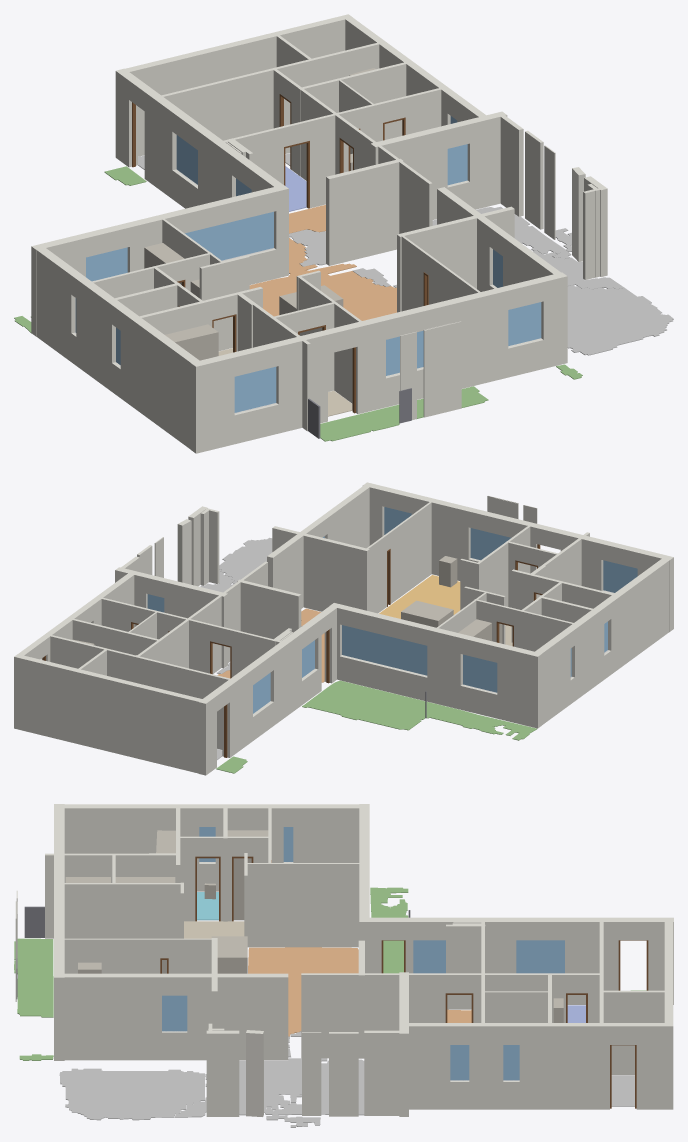
The picture shows the model from 3 angles, top to bottom: view 1: azimuth 30°, elevation 25°; view 2: azimuth 150°, elevation 25°; view 3: azimuth 270°, elevation 25°; orthographic projection. The views are drawn at different scales.
Parts seen in each view (by area): view 1: walls, floor_21_Garage, floor_18_Living_Room, window_9, floor_15_Outdoor, window_3, window_16, furniture_4_closet, floor_20_Garage, floor_24_Undefined, window_0, floor_22_Undefined (+6 smaller); view 2: walls, floor_14_Outdoor, window_9, floor_17_Kitchen, floor_21_Garage, window_0, furniture_19_fireplace, window_2, window_3, furniture_2_closet, furniture_12_appliance, window_6 (+1 smaller); view 3: walls, floor_21_Garage, floor_18_Living_Room, floor_15_Outdoor, floor_24_Undefined, floor_14_Outdoor, window_6, floor_20_Garage, furniture_19_fireplace, window_8, furniture_3_closet, floor_19_Entry (+6 smaller).
Part boxes in pixels (x1=…): walls: x1=31, y1=14, x2=607, y2=453; floor_21_Garage: x1=567, y1=285, x2=673, y2=355; floor_18_Living_Room: x1=249, y1=205, x2=396, y2=320; window_9: x1=185, y1=211, x2=273, y2=260; floor_15_Outdoor: x1=320, y1=386, x2=488, y2=441; window_3: x1=234, y1=366, x2=276, y2=412; window_16: x1=508, y1=302, x2=541, y2=345; furniture_4_closet: x1=165, y1=324, x2=218, y2=360; floor_20_Garage: x1=432, y1=206, x2=571, y2=258; floor_24_Undefined: x1=533, y1=250, x2=624, y2=289; window_0: x1=86, y1=247, x2=127, y2=281; floor_22_Undefined: x1=289, y1=229, x2=326, y2=266; walls: x1=14, y1=482, x2=673, y2=775; floor_14_Outdoor: x1=302, y1=680, x2=536, y2=740; window_9: x1=342, y1=625, x2=427, y2=675; floor_17_Kitchen: x1=379, y1=575, x2=460, y2=618; floor_21_Garage: x1=219, y1=537, x2=272, y2=584; window_0: x1=463, y1=654, x2=497, y2=692; furniture_19_fireplace: x1=401, y1=600, x2=453, y2=627; window_2: x1=470, y1=528, x2=510, y2=560; window_3: x1=603, y1=560, x2=637, y2=592; furniture_2_closet: x1=458, y1=619, x2=502, y2=643; furniture_12_appliance: x1=439, y1=556, x2=457, y2=587; window_6: x1=253, y1=672, x2=270, y2=713; walls: x1=15, y1=804, x2=673, y2=1116; floor_21_Garage: x1=59, y1=1068, x2=204, y2=1120; floor_18_Living_Room: x1=248, y1=947, x2=471, y2=1036; floor_15_Outdoor: x1=14, y1=938, x2=53, y2=1017; floor_24_Undefined: x1=175, y1=1058, x2=327, y2=1117; floor_14_Outdoor: x1=370, y1=887, x2=408, y2=973; window_6: x1=516, y1=940, x2=564, y2=973; floor_20_Garage: x1=264, y1=1059, x2=364, y2=1115; furniture_19_fireplace: x1=211, y1=936, x2=247, y2=973; window_8: x1=413, y1=940, x2=445, y2=973; furniture_3_closet: x1=227, y1=830, x2=268, y2=919; floor_19_Entry: x1=184, y1=921, x2=244, y2=938.
Bounding box in the file's own units: 16.7 × 2.72 × 19.41.
